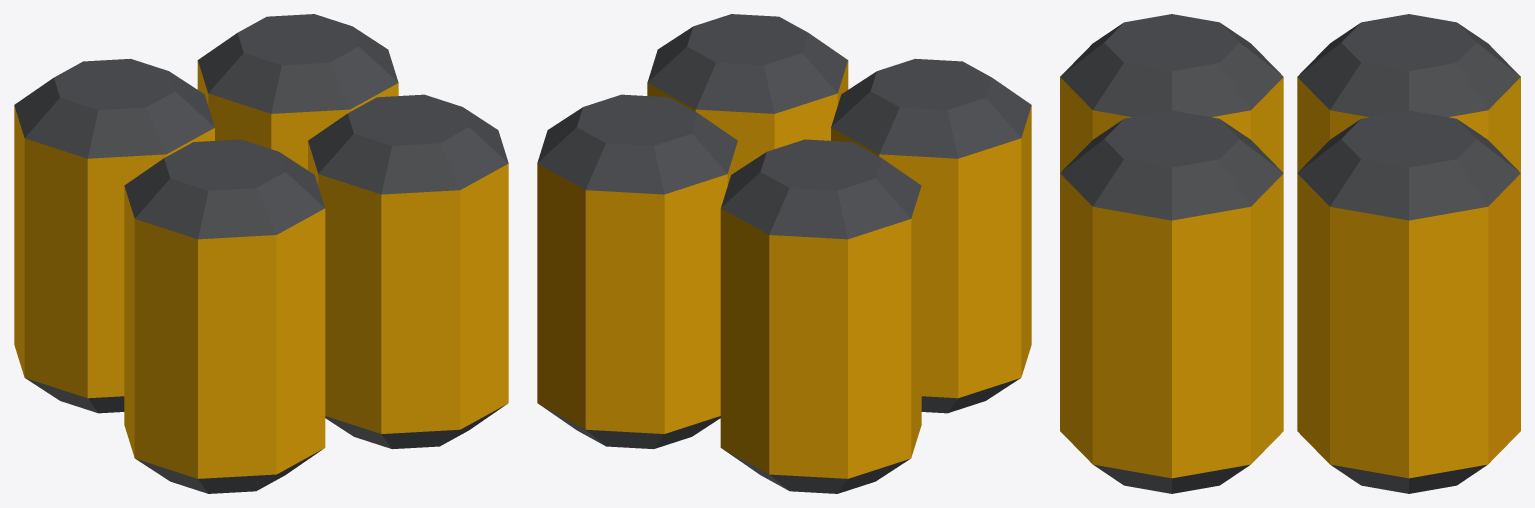
File: Barrels.fbx
The picture shows the model from 3 angles, left to right: view 1: azimuth 30°, elevation 25°; view 2: azimuth 150°, elevation 25°; view 3: azimuth 270°, elevation 25°; orthographic projection. The views are drawn at different scales.
Parts seen in each view (by area): view 1: base.012; view 2: base.012; view 3: base.012.
Boxes of the visible parts, x1,y1,x2,y2 form: base.012: (14, 14, 508, 493); base.012: (537, 14, 1031, 493); base.012: (1060, 14, 1520, 493).
Bounding box in the file's own units: 90.81 × 72.35 × 92.6.
